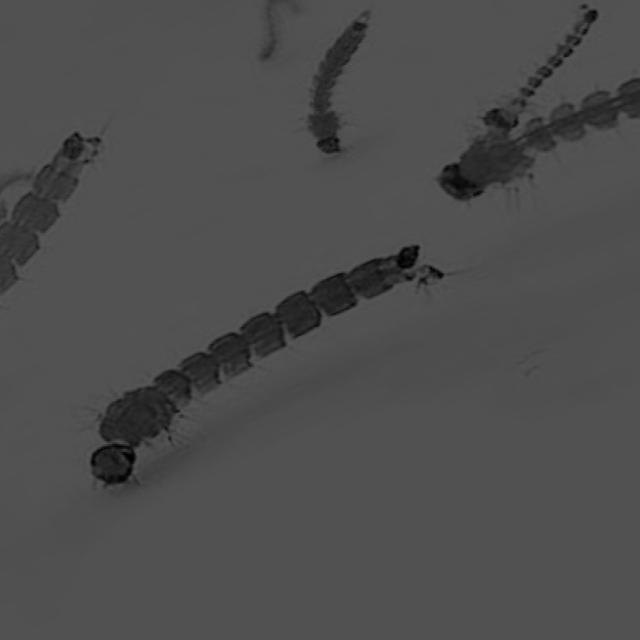larvas: (87, 224, 434, 502), (433, 58, 631, 218), (0, 123, 103, 298), (479, 0, 603, 144), (310, 7, 373, 156), (1, 149, 47, 219), (261, 2, 297, 63)
